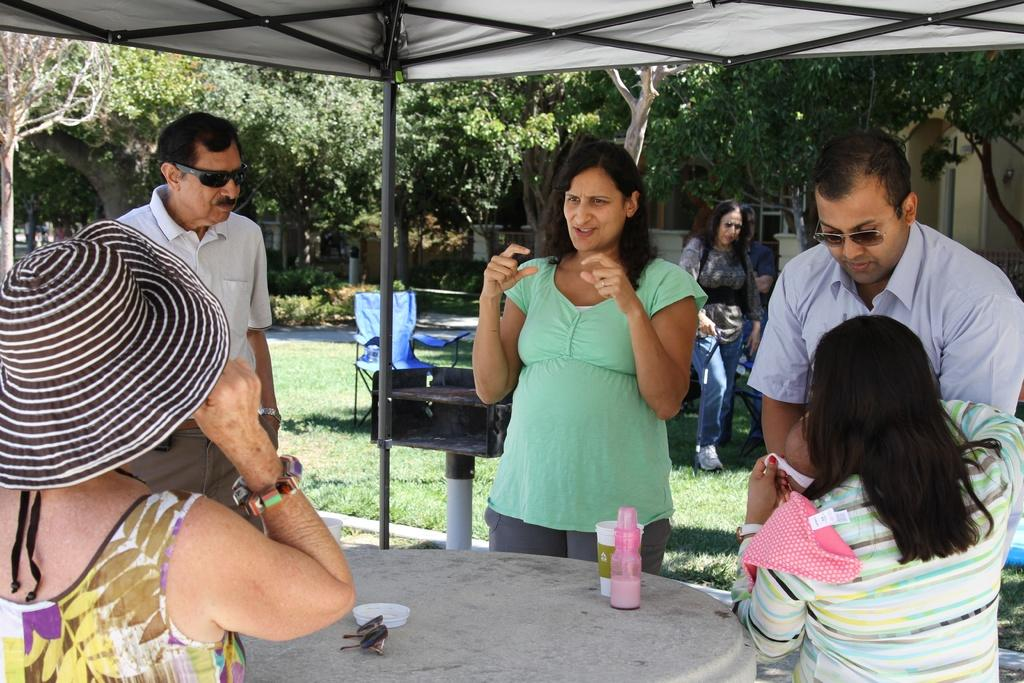Sem Máscara: (813, 195, 901, 283), (561, 168, 621, 250), (174, 149, 239, 217), (723, 209, 739, 245)
